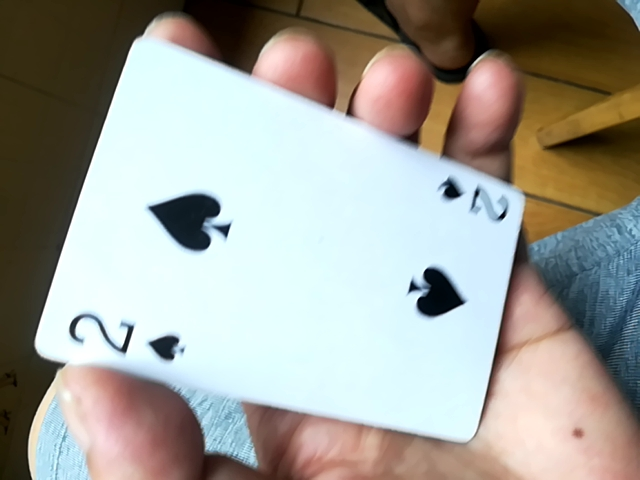ht 2: (40, 25, 530, 454)
